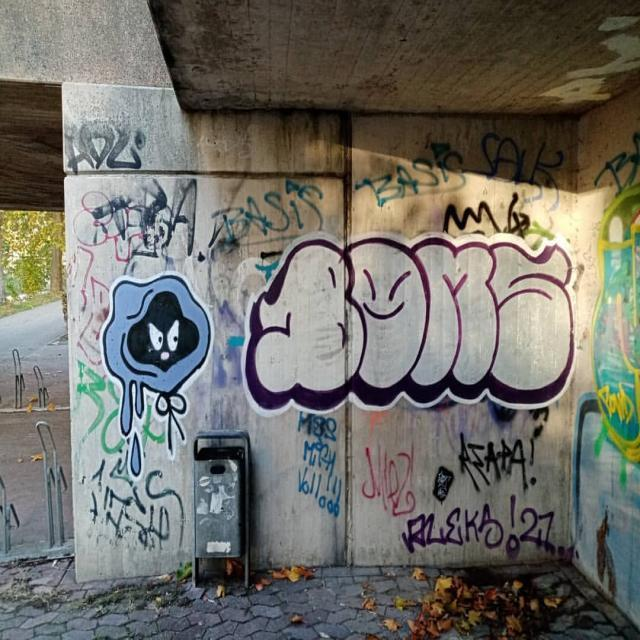-: (250, 242, 573, 410), (103, 279, 212, 496), (398, 500, 558, 554), (457, 430, 535, 490)
